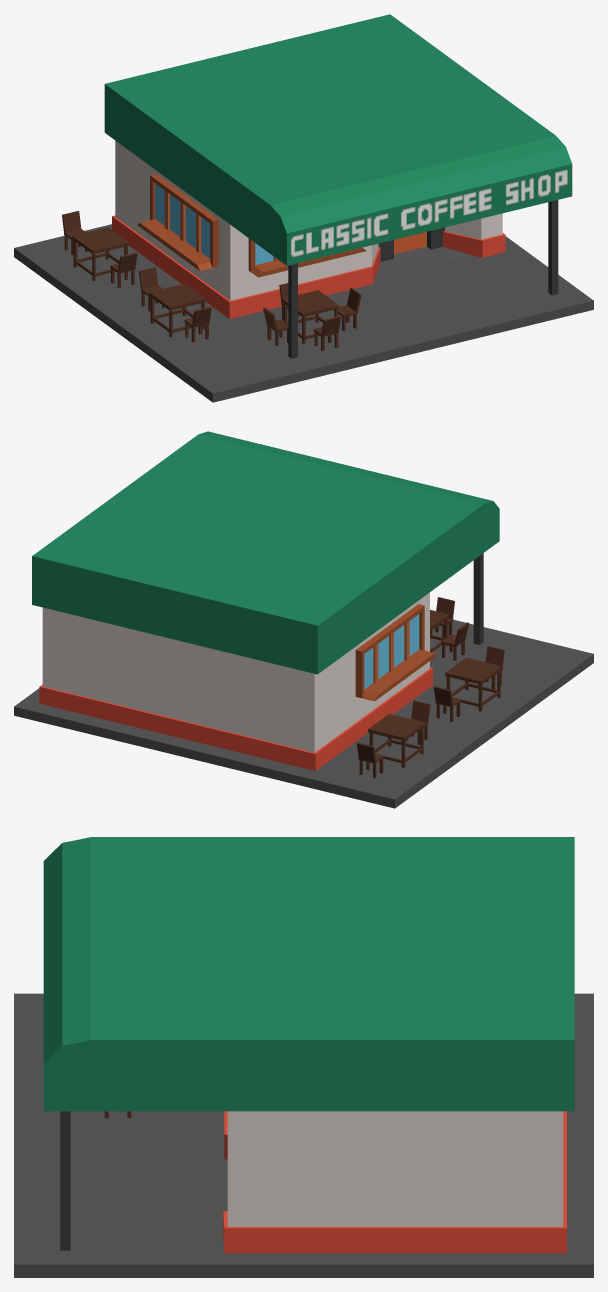
File: CoffeShop.fbx
3 views of the same model, one above another, from view 1: azimuth 30°, elevation 25°; view 2: azimuth 150°, elevation 25°; view 3: azimuth 270°, elevation 25° (orthographic). The views are drawn at different scales.
Parts seen in each view (by area): view 1: pCube21, pCube51, pCube1, pCube14, pCube34, pCube43, pCube6, pCube46, pCube23, pCube22, pCube45, pCube49 (+4 smaller); view 2: pCube21, pCube1, pCube51, pCube14, pCube43, pCube34, pCube22, pCube41, pCube44, pCube48, pCube42; view 3: pCube21, pCube51, pCube1, pCube23.
Part boxes in pixels (box(x1,y1,x2,y2)): pCube21: box(104, 14, 572, 265); pCube51: box(14, 224, 593, 402); pCube1: box(112, 141, 505, 318); pCube14: box(137, 174, 218, 270); pCube34: box(72, 227, 129, 281); pCube43: box(149, 283, 206, 337); pCube6: box(248, 238, 366, 277); pCube46: box(282, 290, 339, 343); pCube23: box(548, 200, 558, 295); pCube22: box(288, 263, 297, 358); pCube45: box(184, 306, 211, 342); pCube49: box(313, 316, 340, 350); pCube21: box(32, 431, 499, 674); pCube1: box(39, 592, 432, 770); pCube51: box(14, 619, 593, 808); pCube14: box(355, 604, 437, 701); pCube43: box(445, 657, 502, 711); pCube34: box(368, 714, 425, 767); pCube22: box(473, 553, 483, 644); pCube41: box(356, 742, 383, 778); pCube44: box(433, 686, 460, 721); pCube48: box(441, 622, 469, 660); pCube42: box(405, 700, 430, 744); pCube21: box(43, 837, 574, 1111); pCube51: box(14, 993, 593, 1277); pCube1: box(223, 1111, 566, 1253); pCube23: box(60, 1111, 70, 1250).
Size of the model in its own units: 21 by 8.3 by 19.
Materials: 1 (1 with a texture image).
